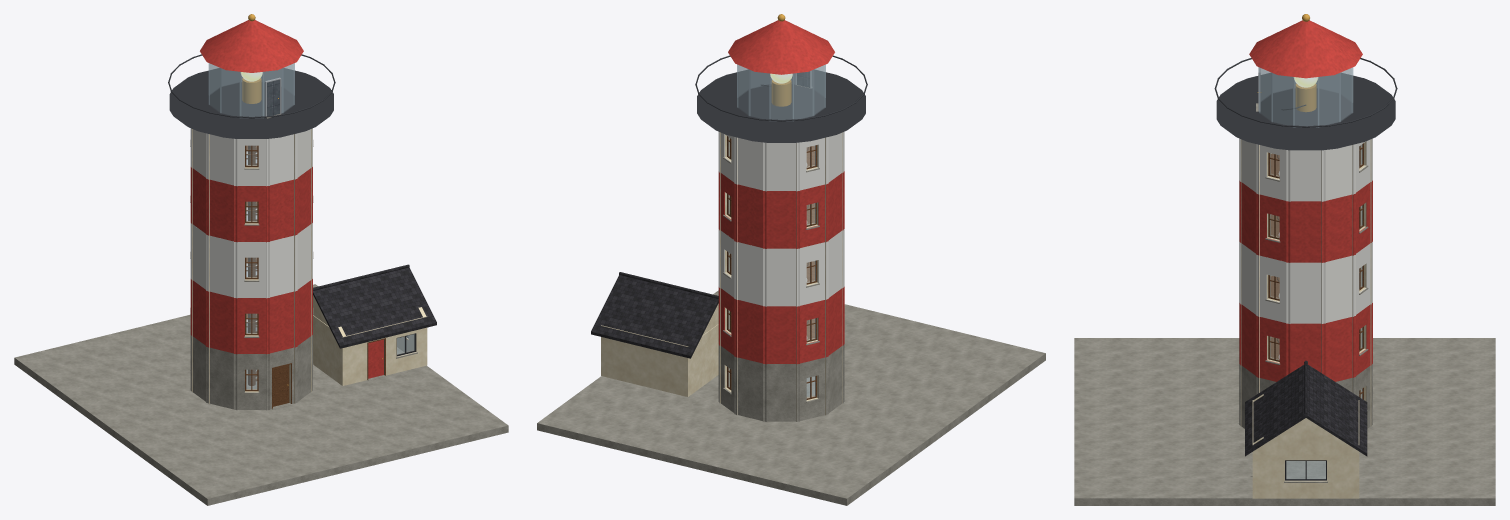
Rendered from b_lighthouse_cape.gltf.
3 renders of one model, left to right at view 1: azimuth 30°, elevation 25°; view 2: azimuth 150°, elevation 25°; view 3: azimuth 270°, elevation 25°, orthographic. The views are drawn at different scales.
Visible parts, largest first — view 1: S_lighthouse_cape, D_lighthouse_cape_F1_8_0_Door0, D_lighthouse_cape_Cottage_S0_Door0; view 2: S_lighthouse_cape; view 3: S_lighthouse_cape.
Boxes of the visible parts, <box> form: S_lighthouse_cape: <box>14,14,508,505</box>; D_lighthouse_cape_F1_8_0_Door0: <box>273,364,289,406</box>; D_lighthouse_cape_Cottage_S0_Door0: <box>368,339,383,378</box>; S_lighthouse_cape: <box>537,14,1045,505</box>; S_lighthouse_cape: <box>1074,14,1495,505</box>.
Size of the model in its own units: 18.4 by 21.55 by 20.
19 materials, 10 textured.
